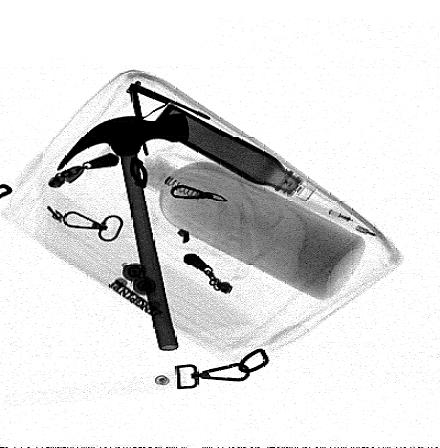Hammer: (56, 112, 192, 352)
